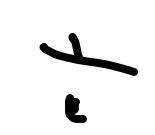div: (41, 32, 138, 125)
